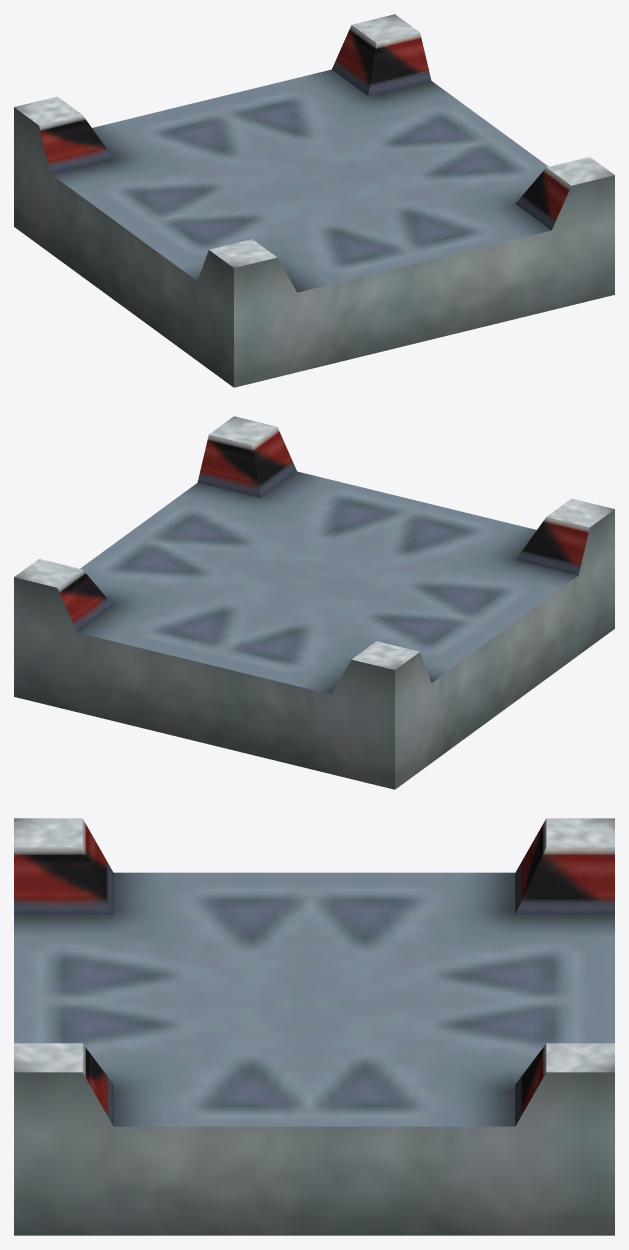
The model's file is ind_tile_nesw_static.obj.
3 views of the same model, one above another, from view 1: azimuth 30°, elevation 25°; view 2: azimuth 150°, elevation 25°; view 3: azimuth 270°, elevation 25° (orthographic). The views are drawn at different scales.
Parts seen in each view (by area): view 1: mid_static; view 2: mid_static; view 3: mid_static.
Boxes of the visible parts, left/top/right/bottom form: mid_static: left=14, top=14, right=614, bottom=387; mid_static: left=14, top=416, right=614, bottom=789; mid_static: left=14, top=818, right=614, bottom=1235.
Bounding box in the file's own units: 1 × 0.3 × 1.
1 material, 1 textured.
